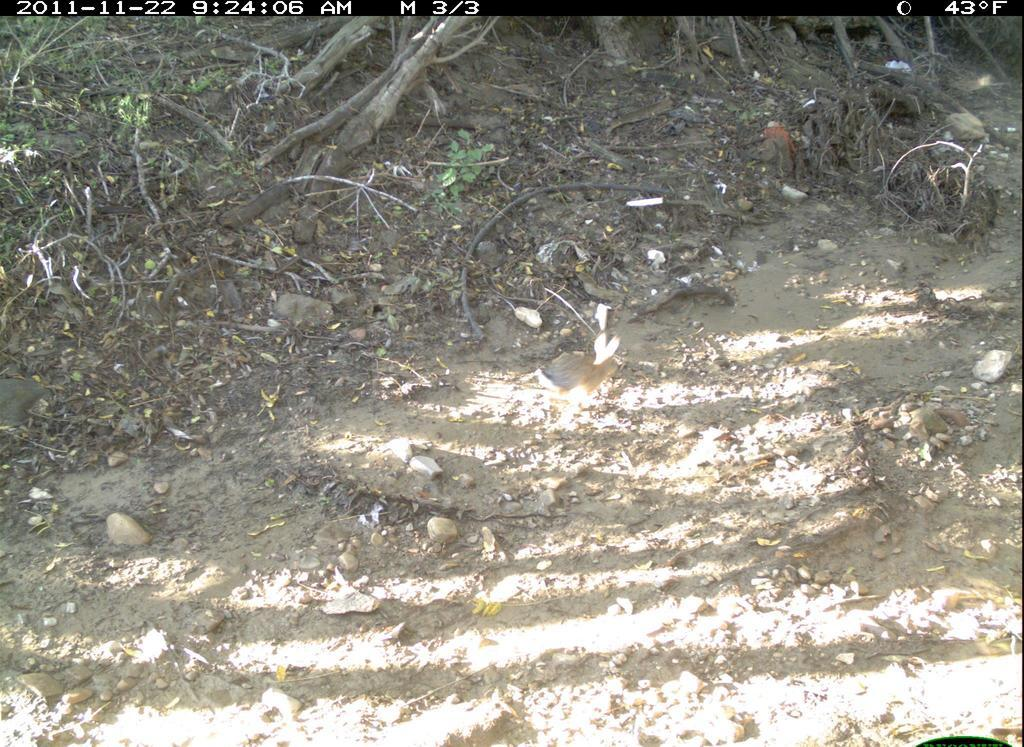rabbit: (532, 332, 642, 440)
